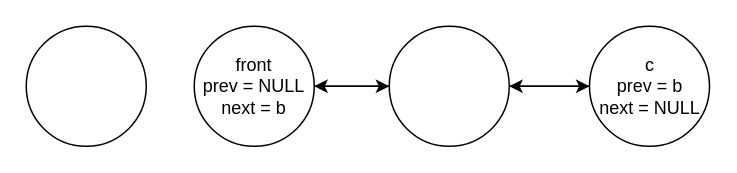
This 737x173 diagram has some shape labels left out. Here are the shapes that lost their labels. From the top down, the centre of each, then its label:
point 85,85: new_node
point 448,85: b prev = a next = c
